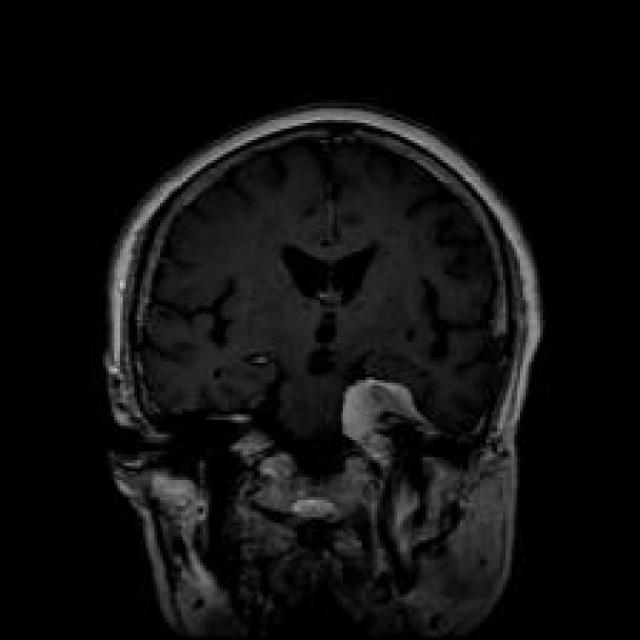meningioma_tumor: (334, 365, 466, 472)
